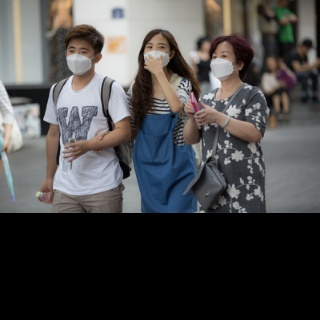with_mask: (66, 44, 93, 76), (210, 49, 236, 80), (143, 40, 169, 69)
